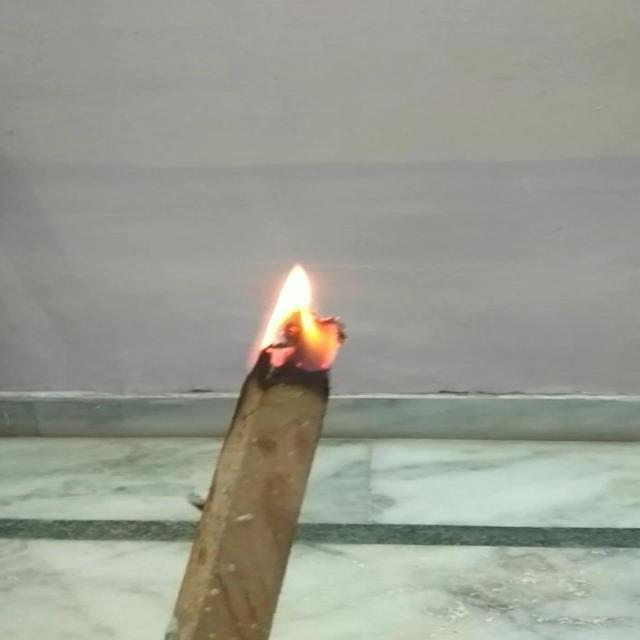smoke: (231, 249, 356, 368)
